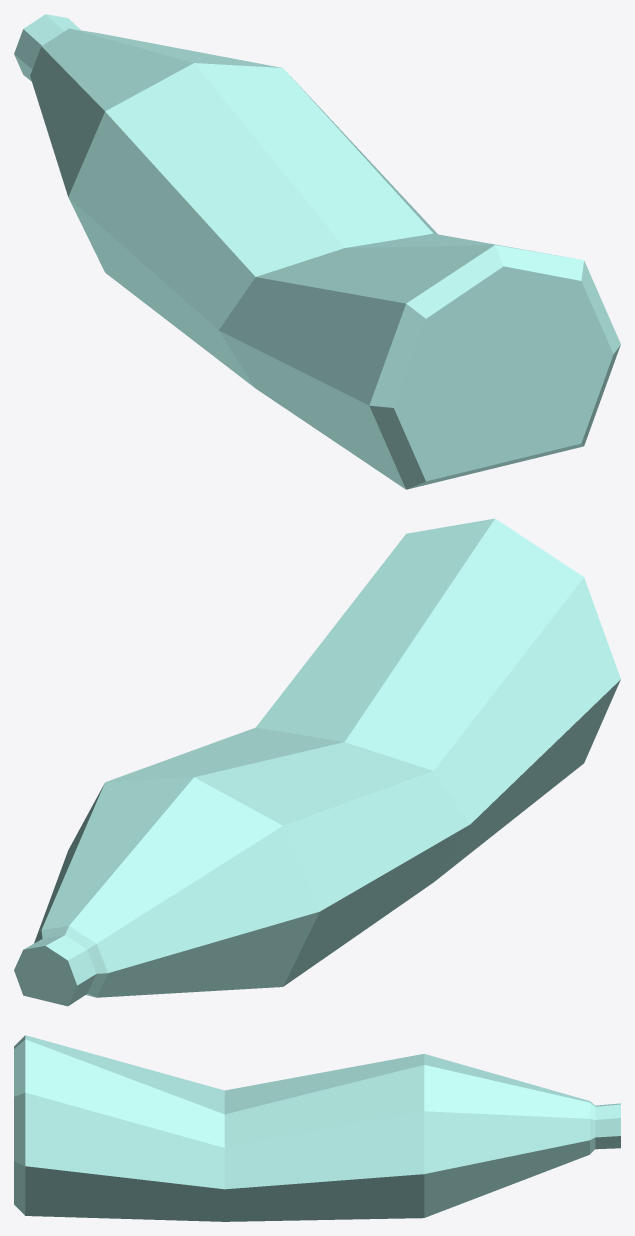
The model's file is plastic_2.glb.
3 views of the same model, one above another, from view 1: azimuth 30°, elevation 25°; view 2: azimuth 150°, elevation 25°; view 3: azimuth 270°, elevation 25° (orthographic). The views are drawn at different scales.
Parts seen in each view (by area): view 1: 2; view 2: 2; view 3: 2.
Boxes of the visible parts, bbox=[...] form: 2: bbox=[14, 14, 620, 489]; 2: bbox=[14, 518, 620, 1006]; 2: bbox=[14, 1035, 620, 1221].
Size of what is drawn, in the model's own units: 0.2747 by 0.2421 by 0.866.
